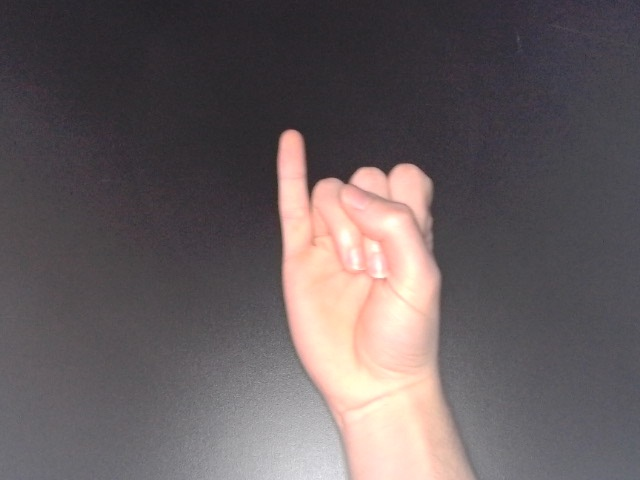i: (270, 125, 449, 429)
